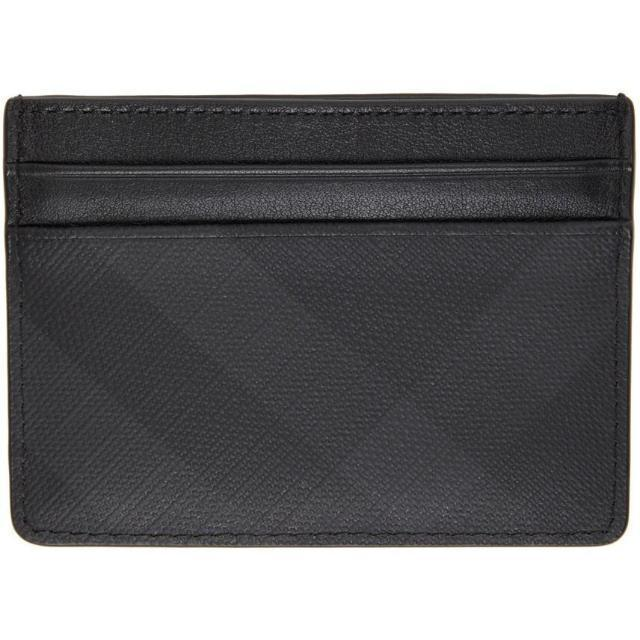wallet: (4, 93, 634, 551)
